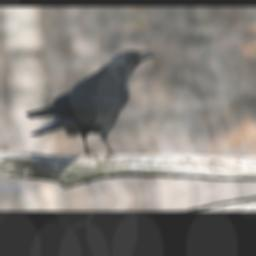Crow: (19, 46, 169, 168)
